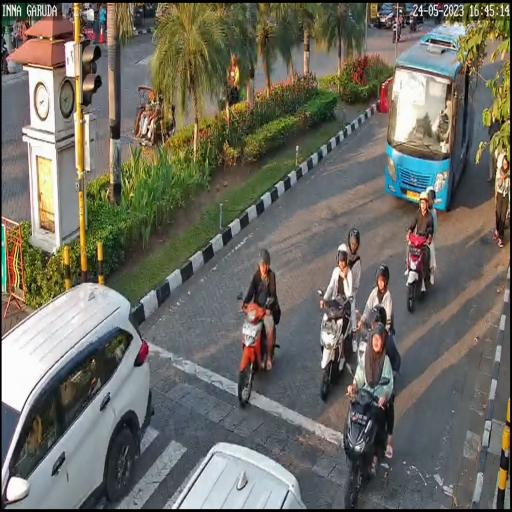mobil: (4, 280, 155, 512), (390, 12, 480, 228)
motor: (338, 369, 404, 501), (230, 278, 282, 416), (310, 276, 358, 406), (404, 222, 434, 313)
